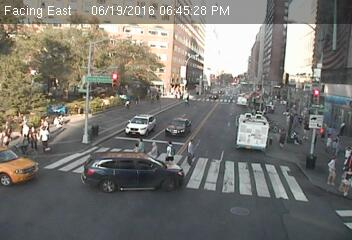neg: (237, 154, 260, 185), (211, 80, 233, 109), (73, 145, 95, 173), (242, 107, 262, 134), (256, 79, 274, 103), (72, 96, 89, 120), (302, 41, 319, 65), (285, 33, 302, 56), (91, 112, 107, 134), (187, 62, 200, 80), (242, 45, 255, 63), (200, 171, 213, 188), (123, 177, 135, 193), (292, 85, 302, 99), (295, 115, 304, 128)
pos: (322, 154, 344, 185), (182, 139, 203, 166), (336, 165, 351, 198), (35, 125, 53, 149), (13, 122, 30, 144), (50, 112, 67, 134), (161, 140, 177, 162), (277, 124, 293, 146), (323, 134, 337, 152), (338, 118, 351, 135), (135, 137, 148, 153), (149, 139, 161, 154), (183, 91, 193, 105), (123, 98, 133, 112), (154, 90, 162, 101)
